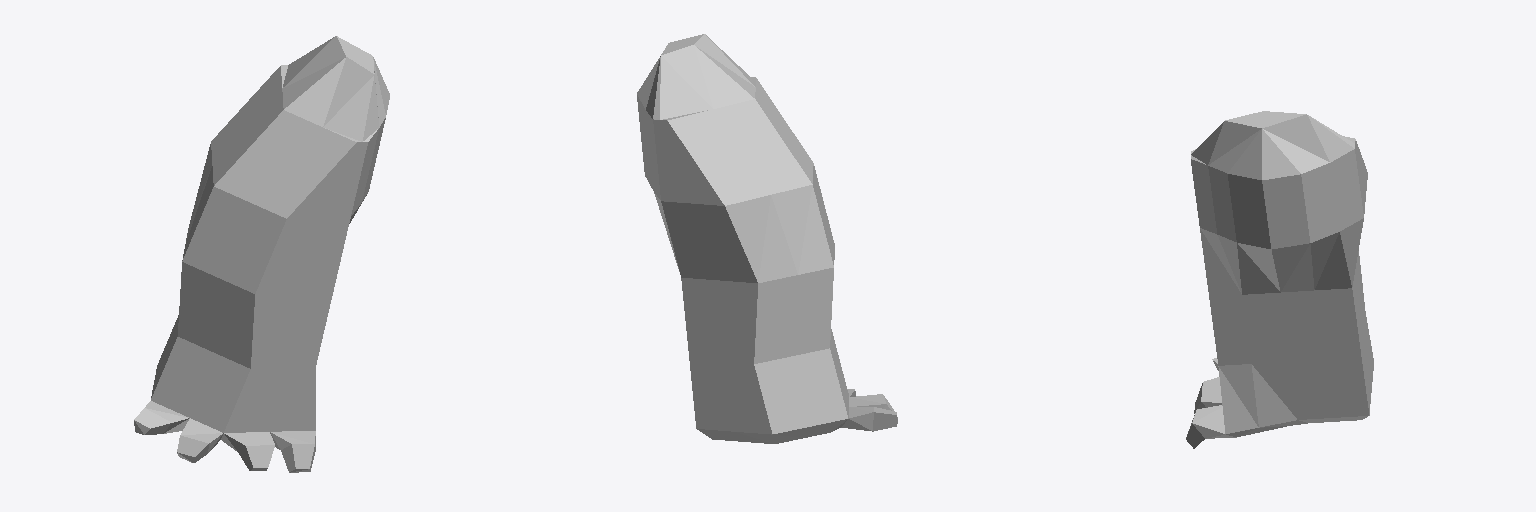
The model's file is RightHand.obj.
3 views of the same model, side by side, from view 1: azimuth 30°, elevation 25°; view 2: azimuth 150°, elevation 25°; view 3: azimuth 270°, elevation 25° (orthographic).
Parts seen in each view (by area): view 1: hidariude.001; view 2: hidariude.001; view 3: hidariude.001.
Part boxes in pixels (x1,y1,x2,y2): hidariude.001: (134,36,389,472); hidariude.001: (637,34,897,443); hidariude.001: (1186,111,1373,448).
Size of the model in its own units: 0.3106 by 0.4437 by 0.2021.